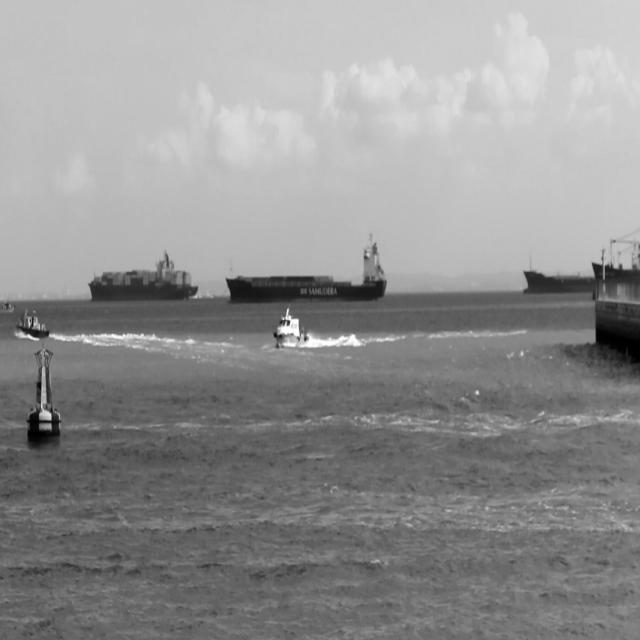buoy: (26, 346, 60, 439)
ship: (225, 231, 387, 302), (592, 223, 640, 355), (88, 249, 199, 305), (523, 254, 595, 296), (272, 307, 310, 348), (17, 306, 51, 338), (0, 298, 14, 317)
